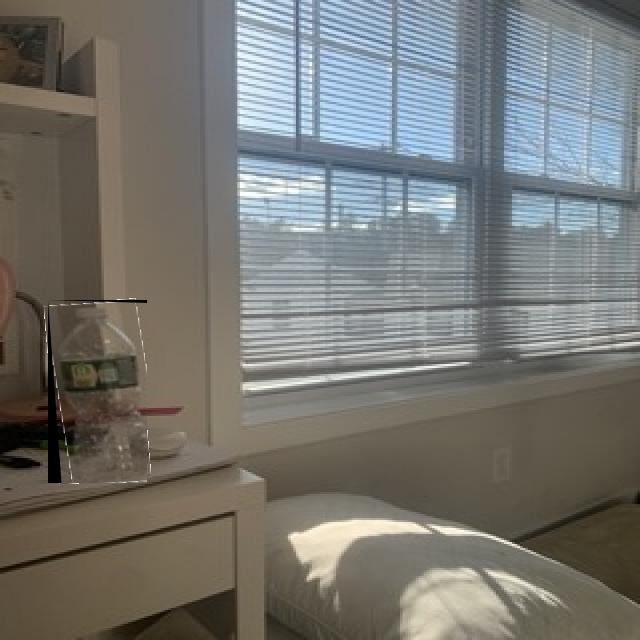water_bottle: (48, 300, 147, 483)
